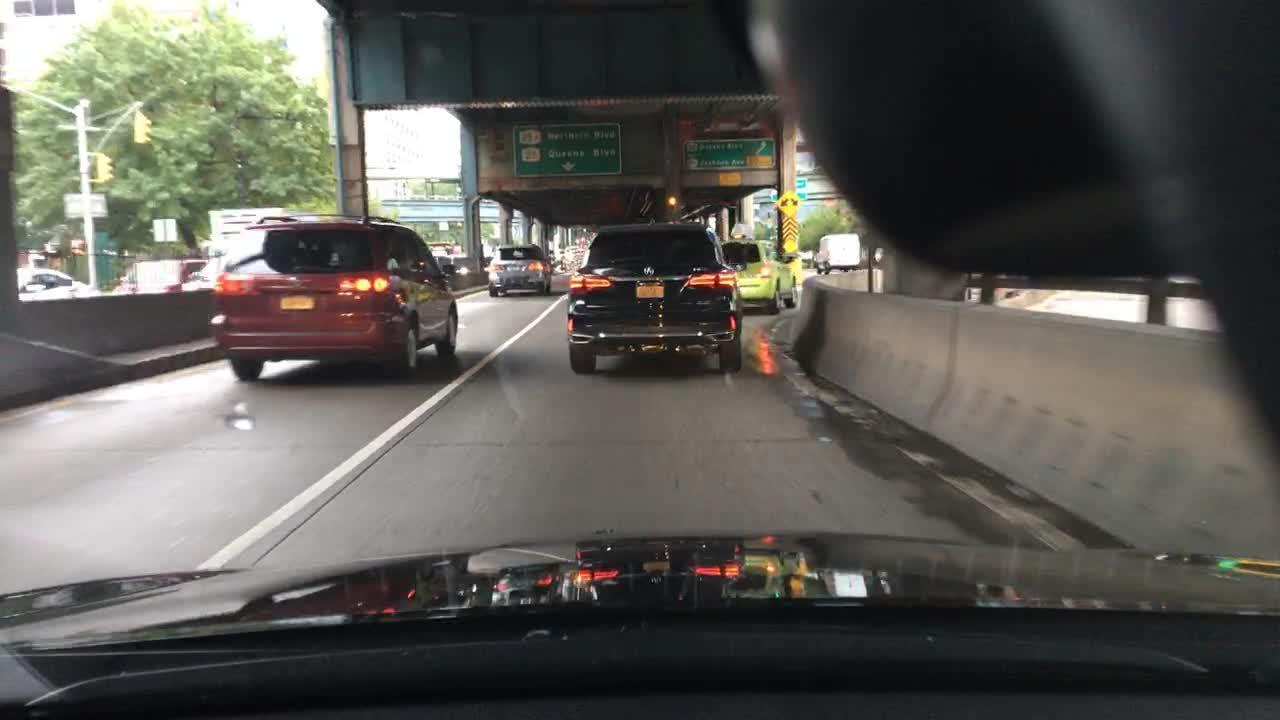acura: (640, 260, 658, 280)
